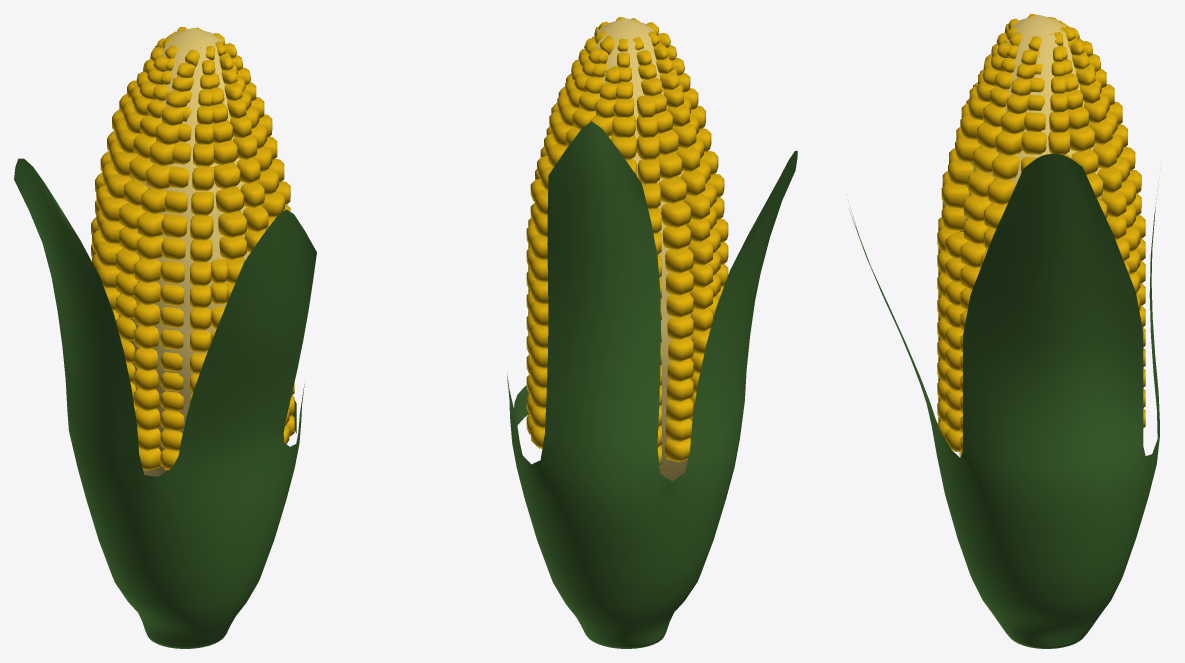
3 views of the same model, side by side, from view 1: azimuth 30°, elevation 25°; view 2: azimuth 150°, elevation 25°; view 3: azimuth 270°, elevation 25° (orthographic).
Parts seen in each view (by area): view 1: Tube001, Sphere001; view 2: Tube001, Sphere001; view 3: Tube001, Sphere001.
Boxes of the visible parts, <box> form: Tube001: <box>14,158,316,648</box>; Sphere001: <box>91,27,294,476</box>; Tube001: <box>507,121,797,648</box>; Sphere001: <box>526,17,728,481</box>; Tube001: <box>850,153,1159,648</box>; Sphere001: <box>937,14,1145,457</box>.
Bounding box in the file's own units: 23.35 × 37.08 × 18.73.
